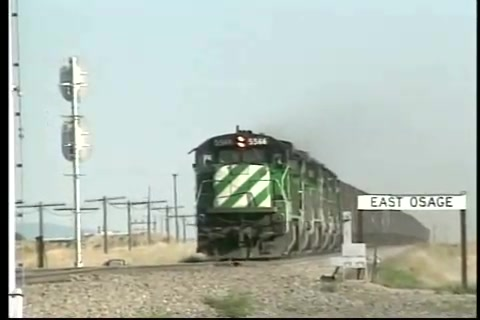train: (187, 125, 433, 260)
